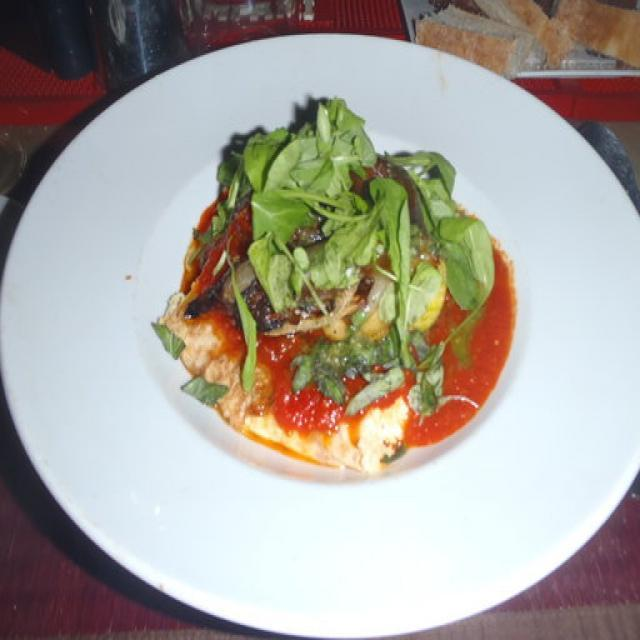Lasagna: (193, 248, 479, 470)
